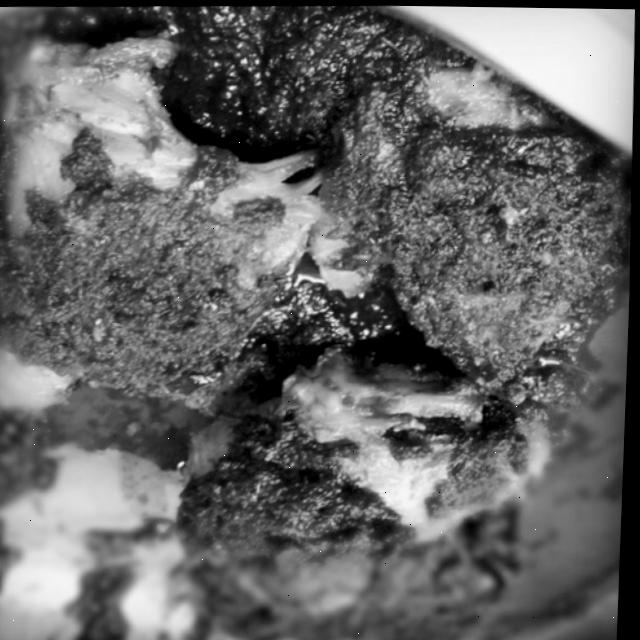鸡肉料理 含炸鸡: (0, 13, 630, 640)
